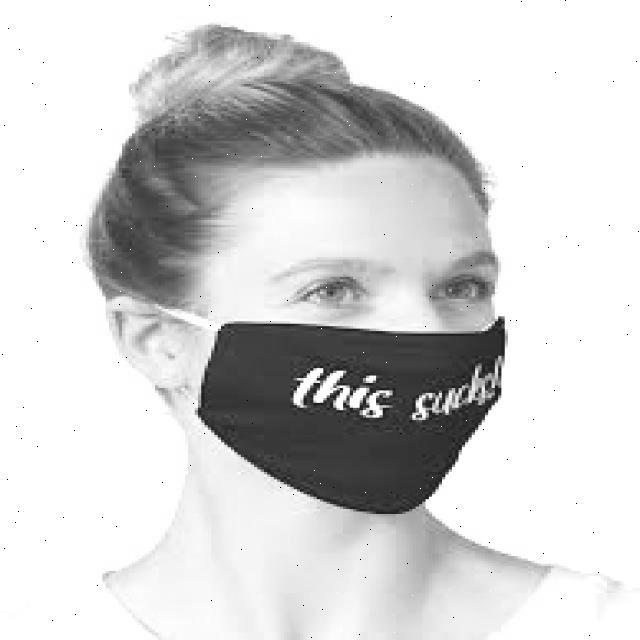fake: (192, 316, 516, 521)
real: (207, 159, 505, 520)
